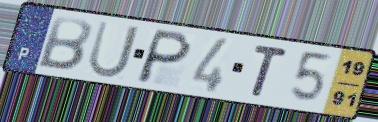4: (189, 35, 232, 95)
5: (287, 50, 333, 106)
B: (34, 14, 94, 73)
P: (133, 27, 195, 86)
T: (250, 42, 291, 99)
U: (85, 18, 142, 80)
